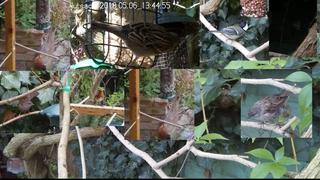dunnock: (246, 89, 292, 130), (17, 91, 40, 119)
great tit: (207, 20, 249, 45)
robin: (92, 89, 104, 106)
sparrow: (90, 20, 180, 62)
